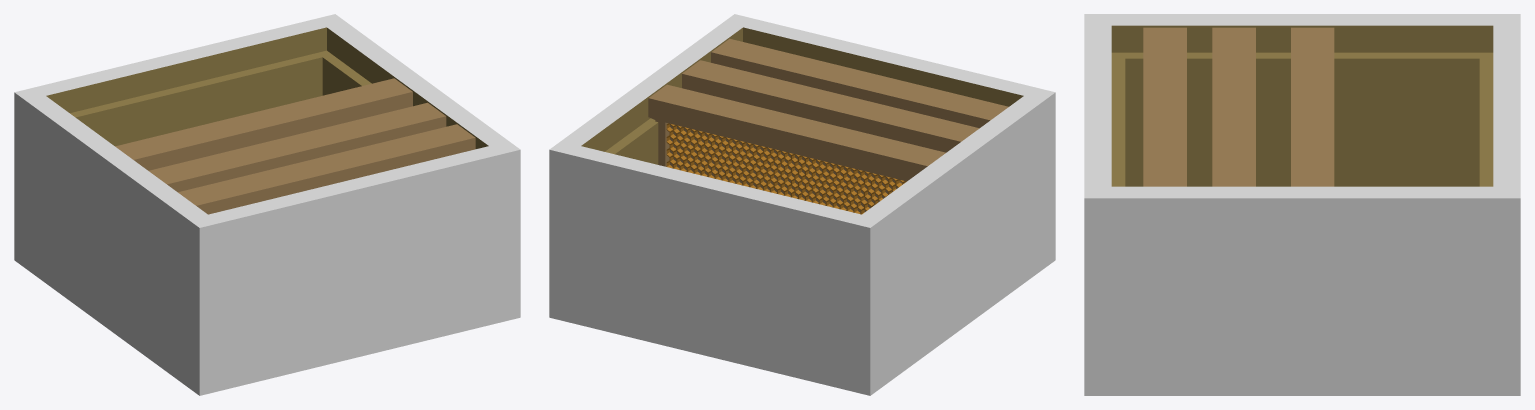
The model's file is TechTreeModels.fbx.
3 views of the same model, side by side, from view 1: azimuth 30°, elevation 25°; view 2: azimuth 150°, elevation 25°; view 3: azimuth 270°, elevation 25° (orthographic). The views are drawn at different scales.
Parts seen in each view (by area): view 1: Cube, Cube.003, Cube.001, Cube.002; view 2: Cube, Cube.003, Cube.002, Cube.001; view 3: Cube, Cube.001, Cube.002, Cube.003.
Boxes of the visible parts, x1,y1,x2,y2 form: Cube: (14,14,520,395); Cube.003: (115,78,412,170); Cube.001: (178,124,475,214); Cube.002: (148,102,446,192); Cube: (549,14,1055,395); Cube.003: (648,84,945,214); Cube.002: (682,60,979,152); Cube.001: (711,38,1008,128); Cube: (1084,14,1520,395); Cube.001: (1143,27,1186,186); Cube.002: (1212,27,1255,186); Cube.003: (1291,27,1334,186).
Size of the model in its own units: 200 by 100 by 200.
